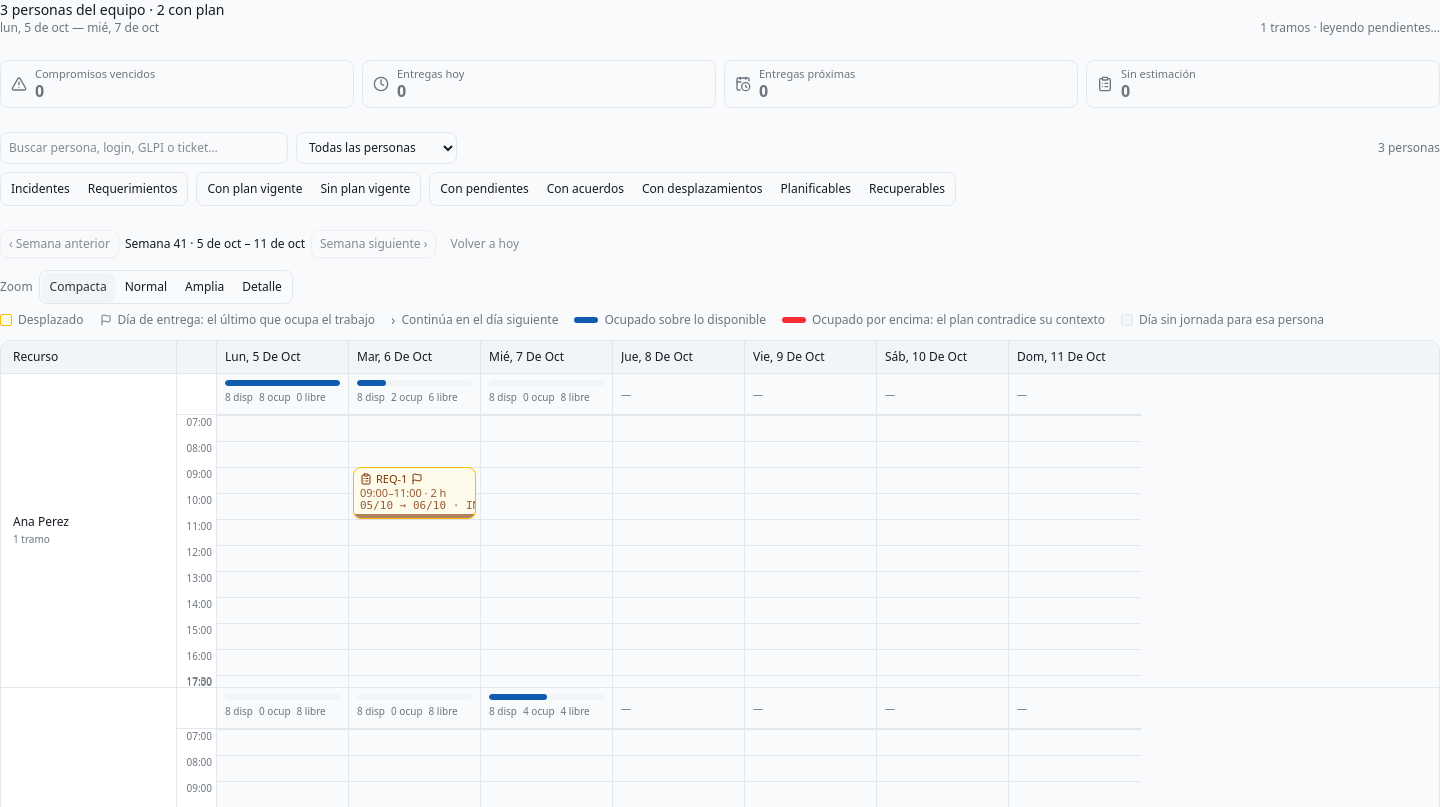
Test: TeamTimeline › abre el detalle del tramo con su causa y sus tres acciones
Expected: the text "Ana Perez" is shown, [13,513,69,530]
# El tramo es un botón: se elige con el teclado y con el ratón, no es una caja con un manejador.
What coordinates should you click on to do the following:
click the button "REQ-1 09:00–11:00 · 2 h 05/10 → 06/10 · INC-1"
I would click on:
 (414, 493)
Its box is [353,467,476,519].
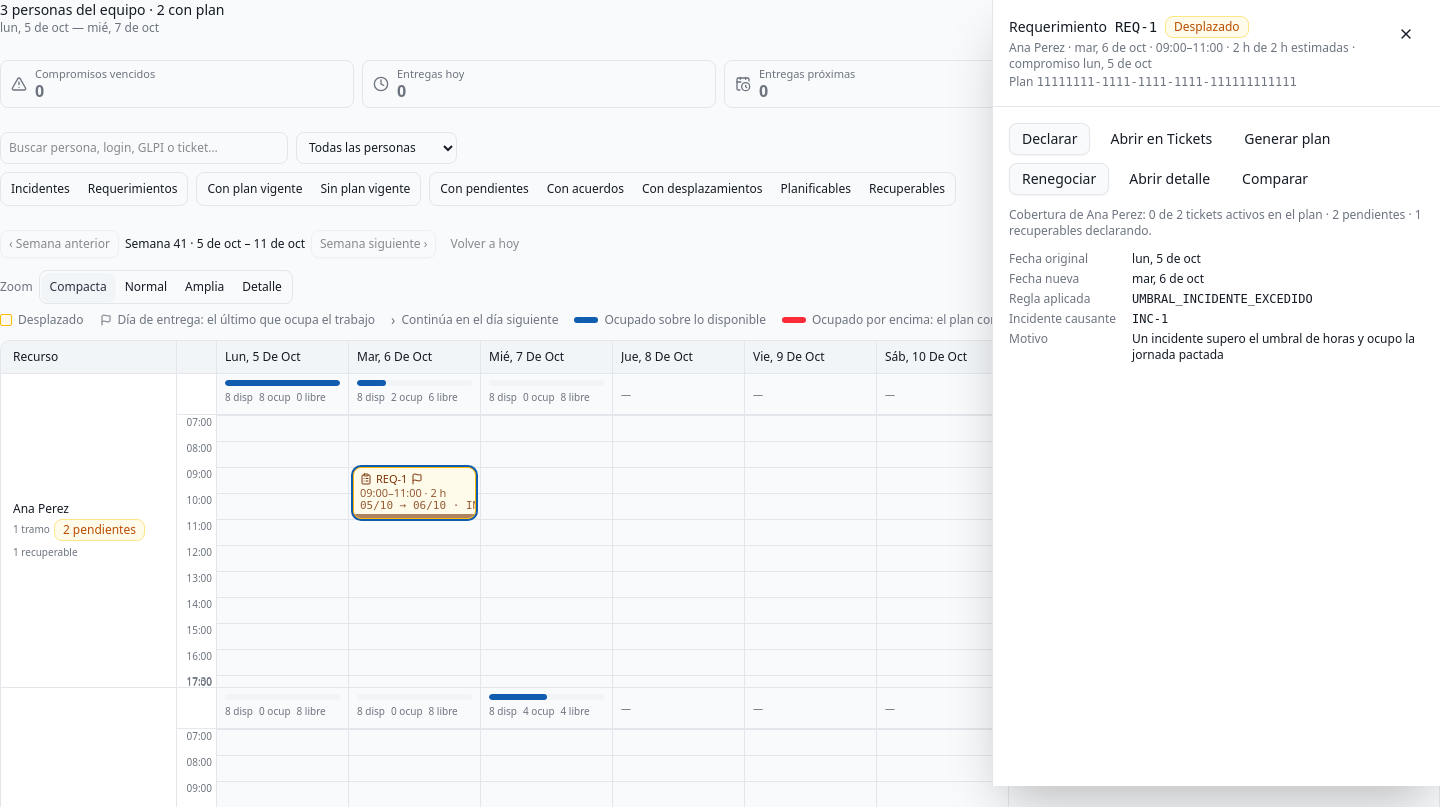
Expected: the text "Fecha original" is shown, [1009,250,1088,267]
Expected: the text "Fecha nueva" is shown, [1009,270,1079,287]
Expected: the text "UMBRAL_INCIDENTE_EXCEDIDO" is shown, [1132,292,1313,306]
